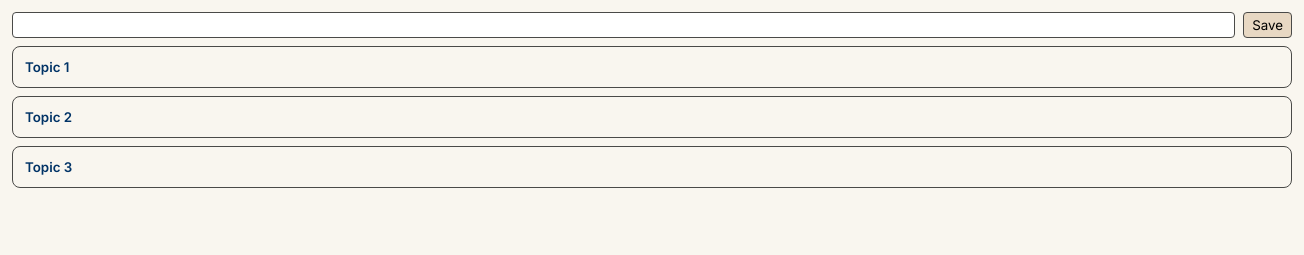
TopicLayoutPreview › pressing Enter saves a non-empty trimmed topic, clears the input, and prepends it
Type "  New Topic  " into the field.
click(624, 25); type("  New Topic  ")  # box x1=12 y1=12 x2=1235 y2=38
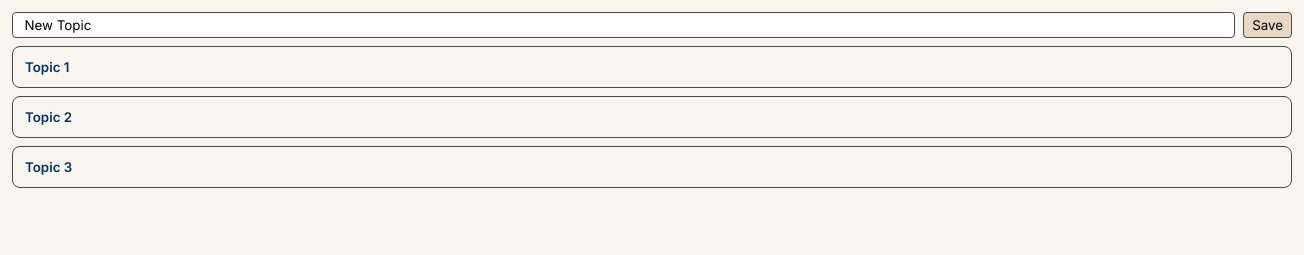
Press Enter in the field, box x1=12 y1=12 x2=1235 y2=38
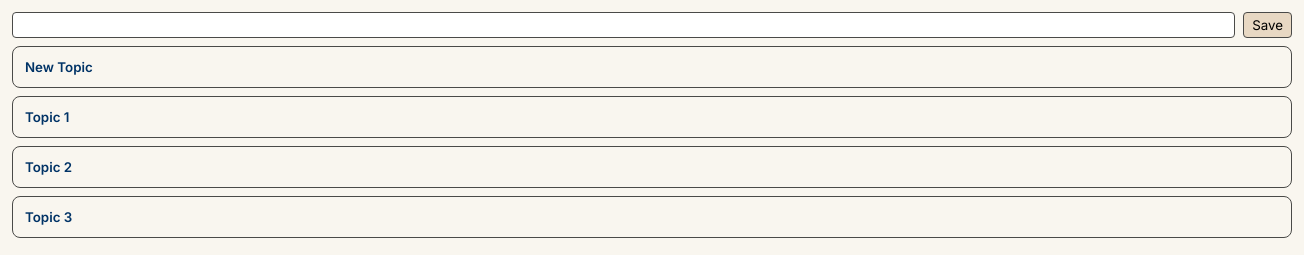
Check: the element with test id "topic-card-" reads "New Topic", box x1=21 y1=55 x2=1283 y2=79
Check: the field is empty, box x1=12 y1=12 x2=1235 y2=38
